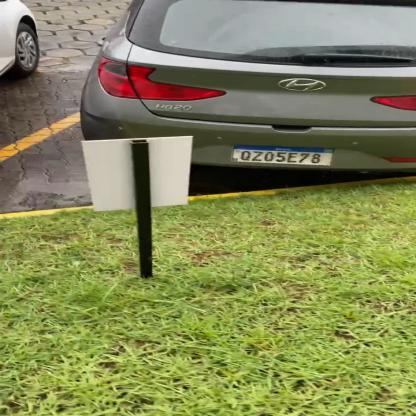Plate: (233, 140, 338, 168)
